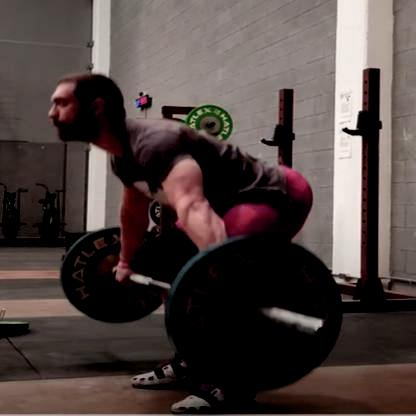Barbell: (315, 321, 341, 351), (209, 122, 219, 130)
